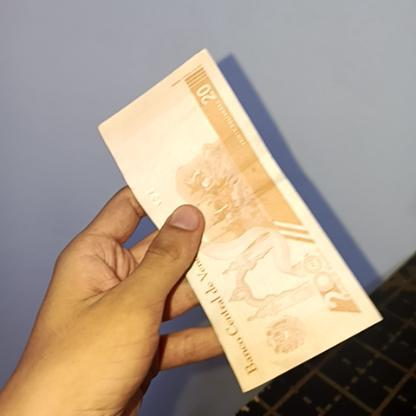twenty-back-vef: (90, 44, 392, 396)
